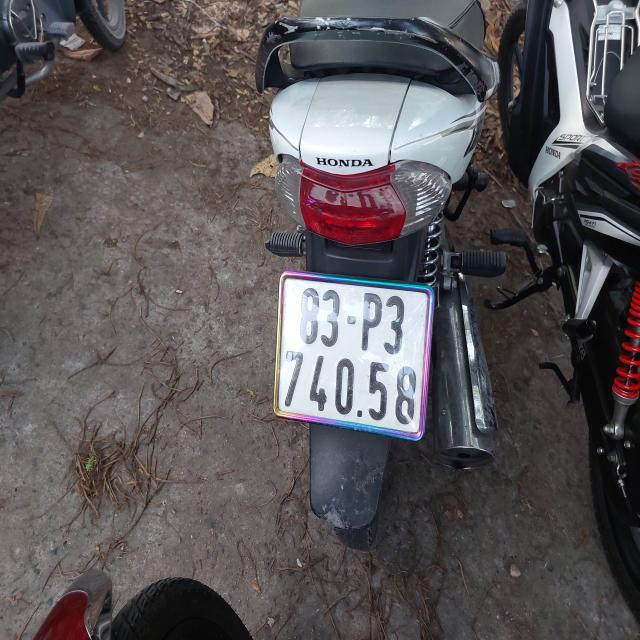0: (336, 359, 356, 416)
3: (383, 294, 408, 355), (318, 288, 341, 345)
4: (310, 354, 330, 412)
5: (368, 359, 388, 422)
7: (284, 348, 305, 409)
8: (396, 366, 417, 428), (299, 288, 319, 346)
P: (359, 290, 384, 353)
